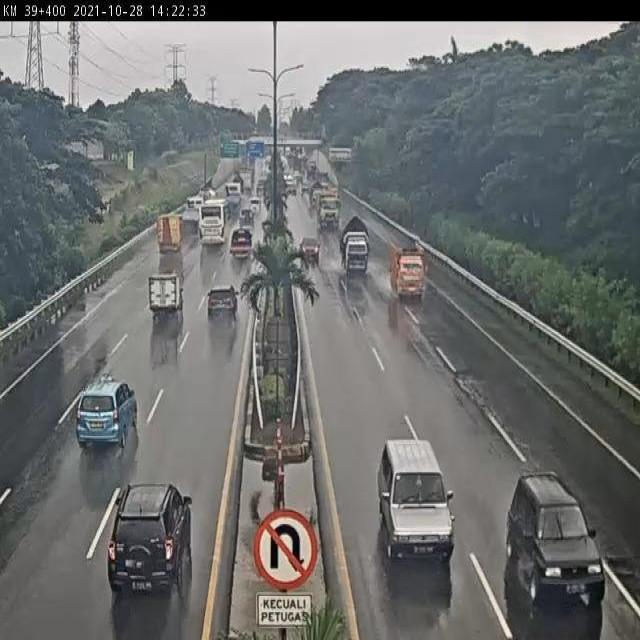big bus: (196, 201, 230, 252)
car: (507, 473, 605, 608), (99, 476, 193, 600), (374, 439, 455, 561), (74, 375, 142, 453), (145, 276, 184, 320), (207, 287, 238, 320), (299, 233, 320, 263), (235, 205, 257, 231)
small truck: (228, 229, 254, 264)
truck-l-: (316, 188, 343, 229)
truck-s-: (386, 236, 425, 300), (337, 214, 370, 274), (156, 212, 182, 257)
